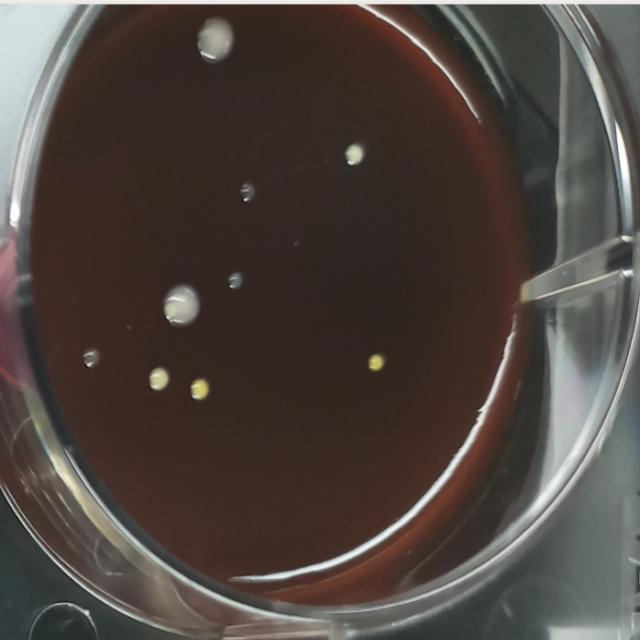Bacillus: (193, 12, 241, 68), (160, 280, 204, 332)
Staphylococcus: (145, 362, 173, 396), (342, 137, 368, 172), (162, 299, 180, 322)
